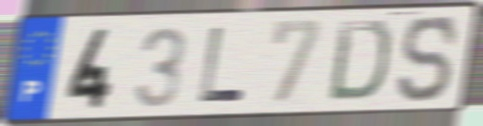3: (134, 25, 188, 109)
4: (62, 25, 114, 112)
7: (267, 16, 328, 110)
D: (324, 18, 394, 105)
L: (196, 25, 248, 105)
S: (395, 13, 461, 106)
